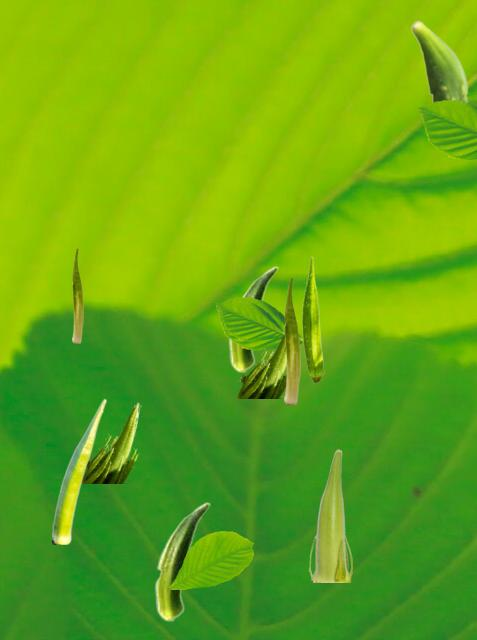okra: (52, 398, 105, 543), (154, 502, 209, 621), (308, 449, 351, 581), (228, 266, 277, 372), (410, 20, 468, 102), (83, 402, 140, 482), (236, 336, 285, 397), (302, 256, 323, 382), (284, 277, 299, 403), (72, 248, 82, 342)
